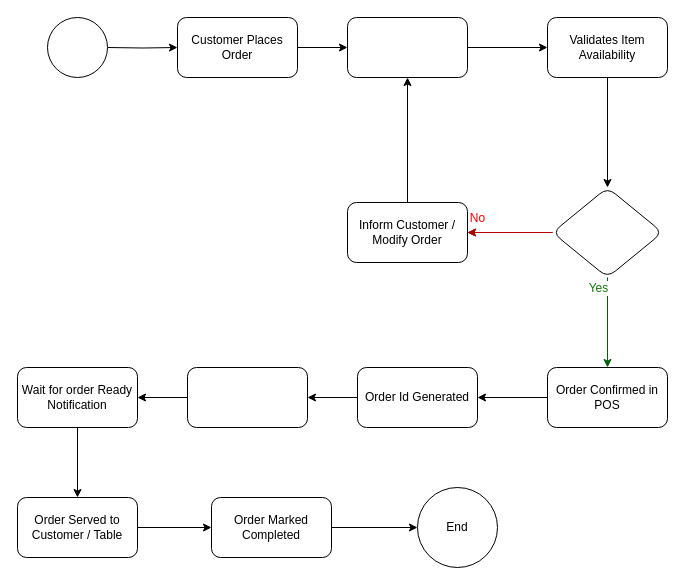
Image size: 685x585. Some labels were removed from this diagram. Each missing label, with the centre of its shape:
Cashier Enetrs Order in POS: [407,47]
Items Available: [607,232]
Order Sent to Kitchen: [247,397]
Start: [77,47]
